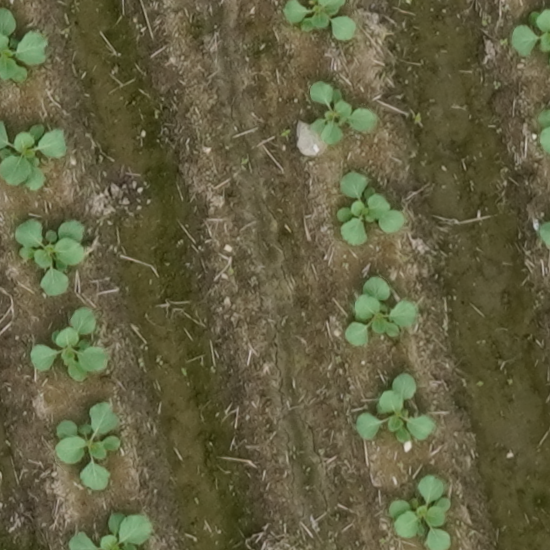Cabbage: (55, 402, 120, 491), (31, 306, 109, 380), (15, 217, 85, 296), (354, 374, 432, 443), (336, 171, 403, 245), (345, 276, 415, 346), (0, 121, 67, 193), (389, 474, 451, 550), (311, 81, 375, 144), (0, 8, 47, 86), (69, 511, 151, 550), (285, 0, 356, 41), (511, 9, 550, 57)
